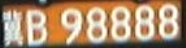B: (26, 10, 48, 46)
